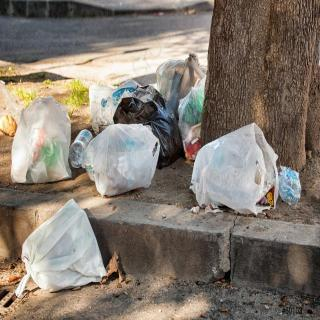Garbage: (13, 199, 111, 297), (187, 122, 283, 217), (7, 92, 77, 184), (79, 123, 161, 197)
